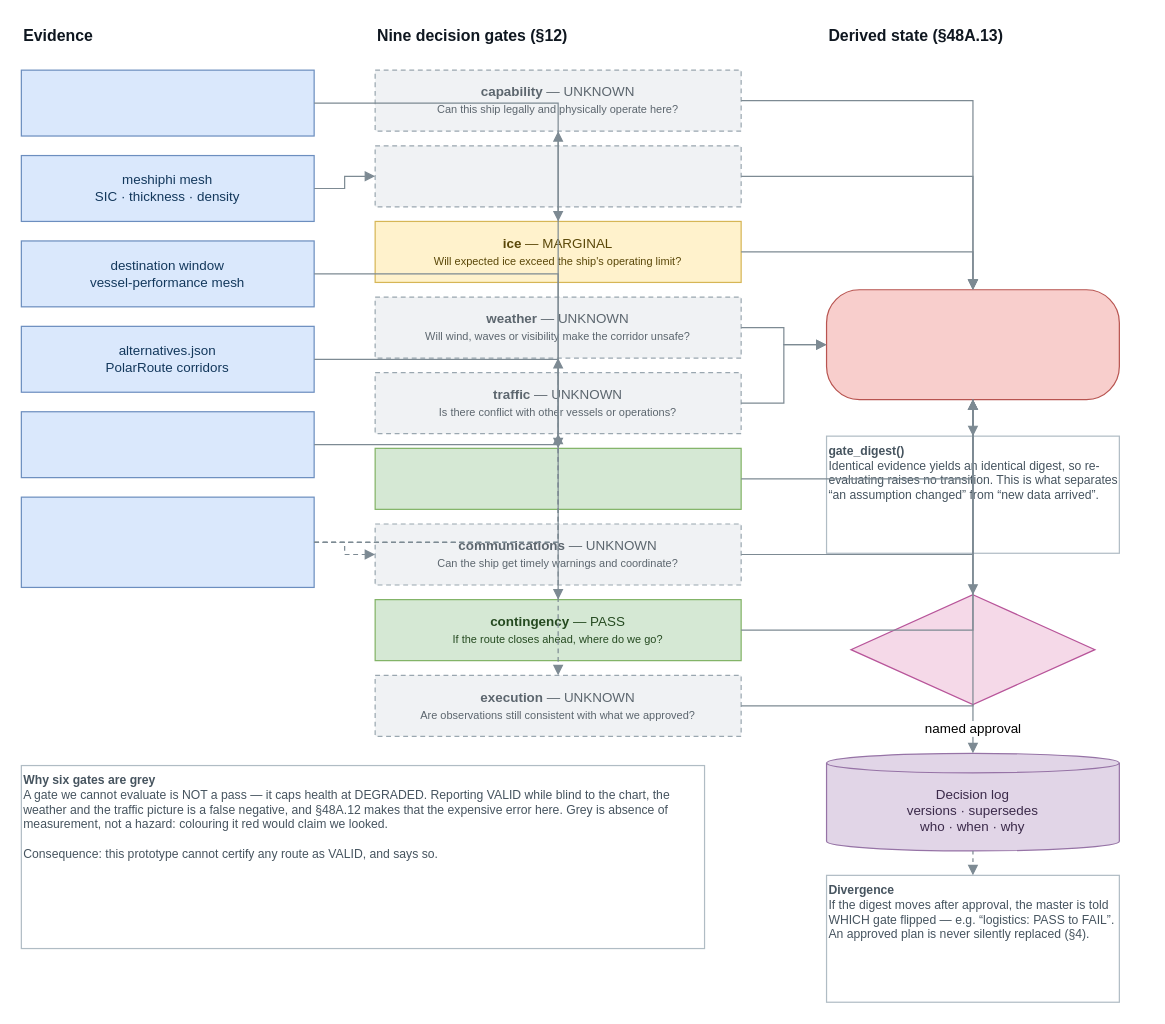
This 1165x1024 diagram has some shape labels left out. Here are the shapes that lost their labels. From the top down, the box of each, then its label:
(20, 69, 314, 136): NOAA/NSIDC CDR G02202 v6 · 25 km
(374, 145, 741, 207): chart — UNKNOWN Is the route geographically understood well enough?
(825, 289, 1119, 400): ROUTE HEALTH worst gate state wins VALID · DEGRADED · CRITICAL · INVALID
(20, 411, 314, 478): vessel config dakshin/ice_meshes.py
(374, 447, 741, 509): logistics — PASS Will this track still meet the station's operating window?
(20, 496, 314, 587): NO SOURCE HELD weather · traffic · comms · live sensors
(850, 594, 1095, 705): Master approves?
